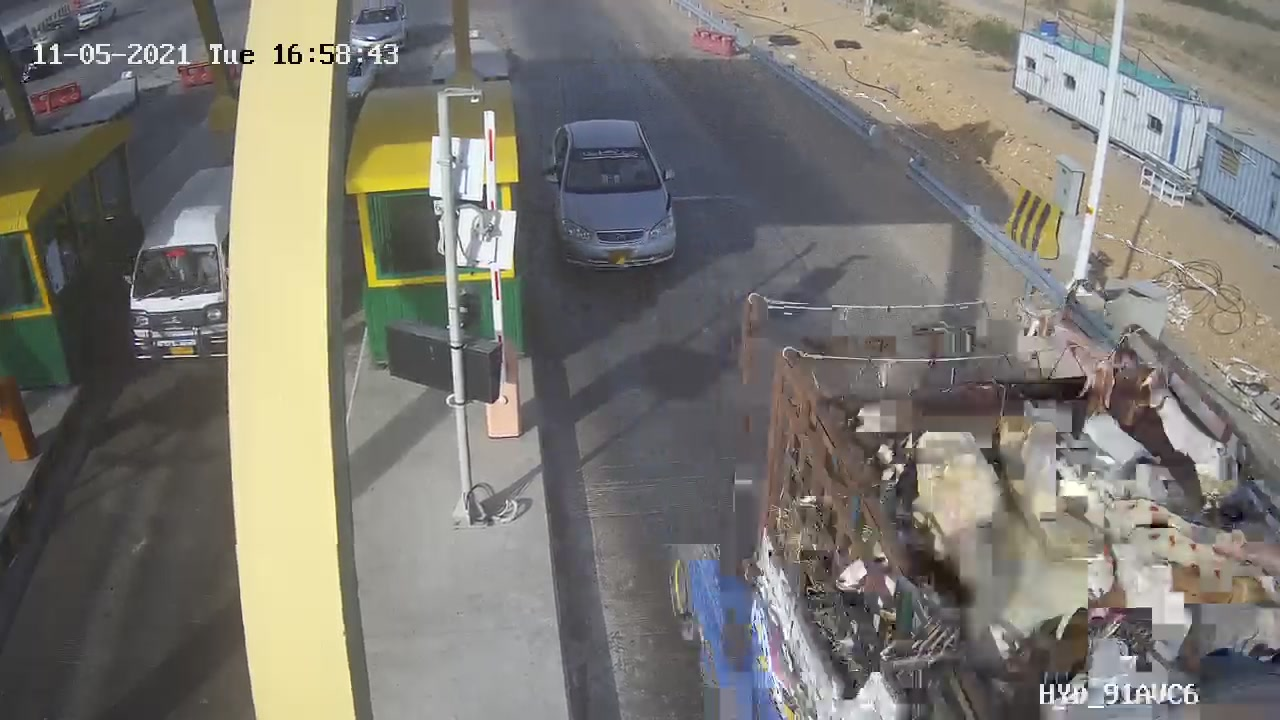F1: (527, 104, 707, 286)
